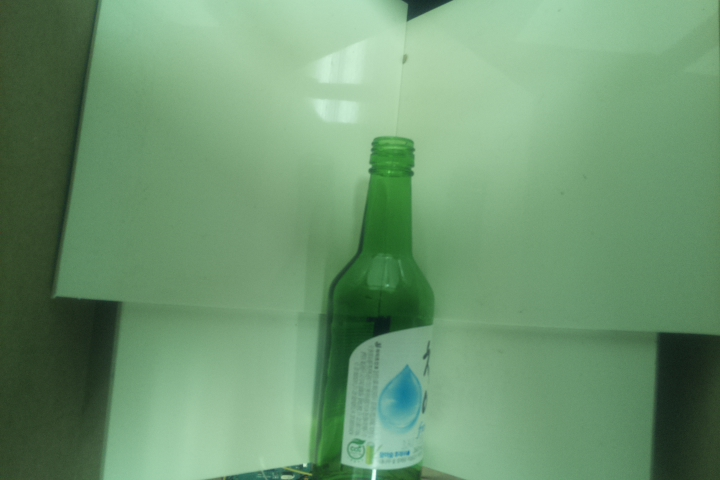soju: (308, 132, 438, 480)
